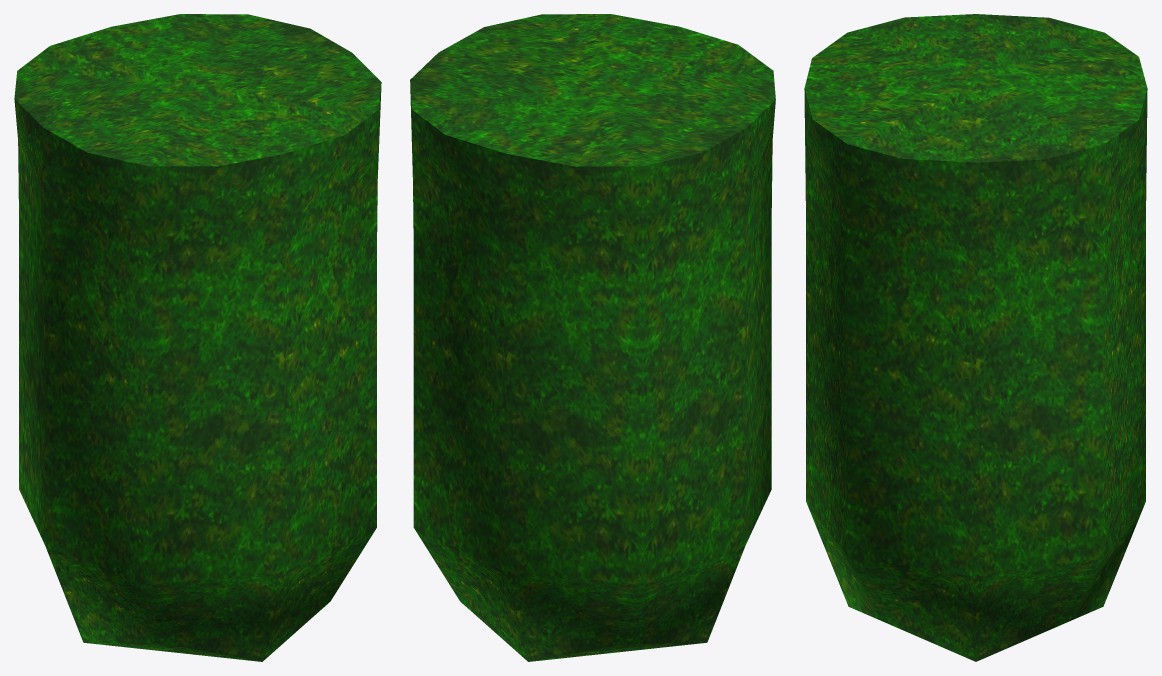
Rendered from INST_HTOWN_CLIFFPIECEB.fbx.
3 views of the same model, side by side, from view 1: azimuth 30°, elevation 25°; view 2: azimuth 150°, elevation 25°; view 3: azimuth 270°, elevation 25° (orthographic).
Parts seen in each view (by area): view 1: INST_HTOWN_CLIFFPIECEB; view 2: INST_HTOWN_CLIFFPIECEB; view 3: INST_HTOWN_CLIFFPIECEB.
Part boxes in pixels (x1,y1,x2,y2): INST_HTOWN_CLIFFPIECEB: [14, 14, 381, 661]; INST_HTOWN_CLIFFPIECEB: [410, 14, 775, 661]; INST_HTOWN_CLIFFPIECEB: [804, 14, 1147, 661].
Bounding box in the file's own units: 26518 × 46427 × 25846.
Materials: 1 (1 with a texture image).
